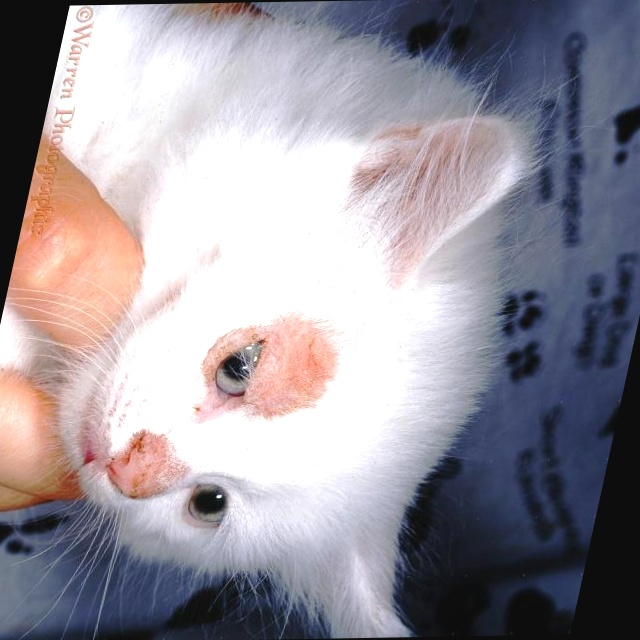ringworm: (249, 332, 338, 415)
